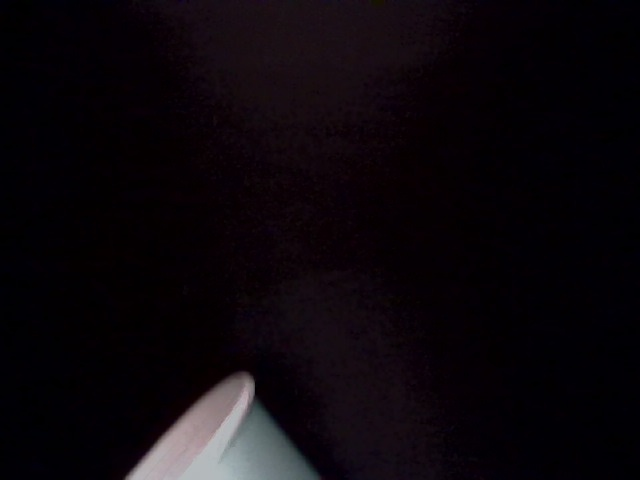CYLJ: (234, 37, 344, 138)
